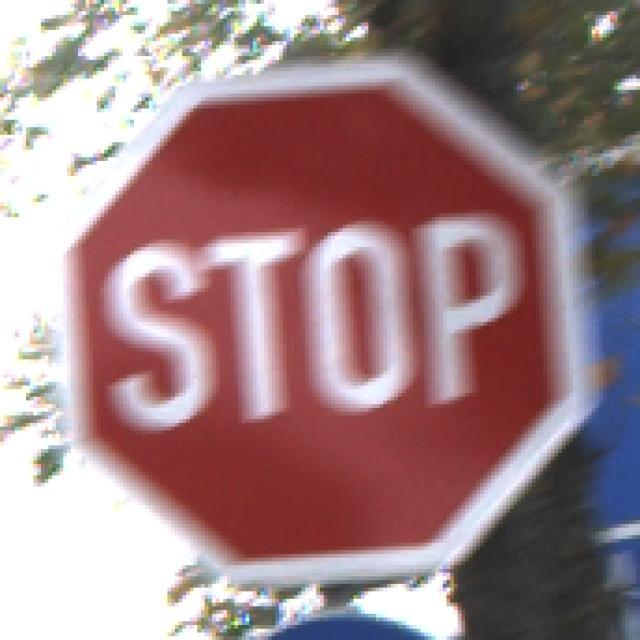stop: (53, 53, 605, 597)
